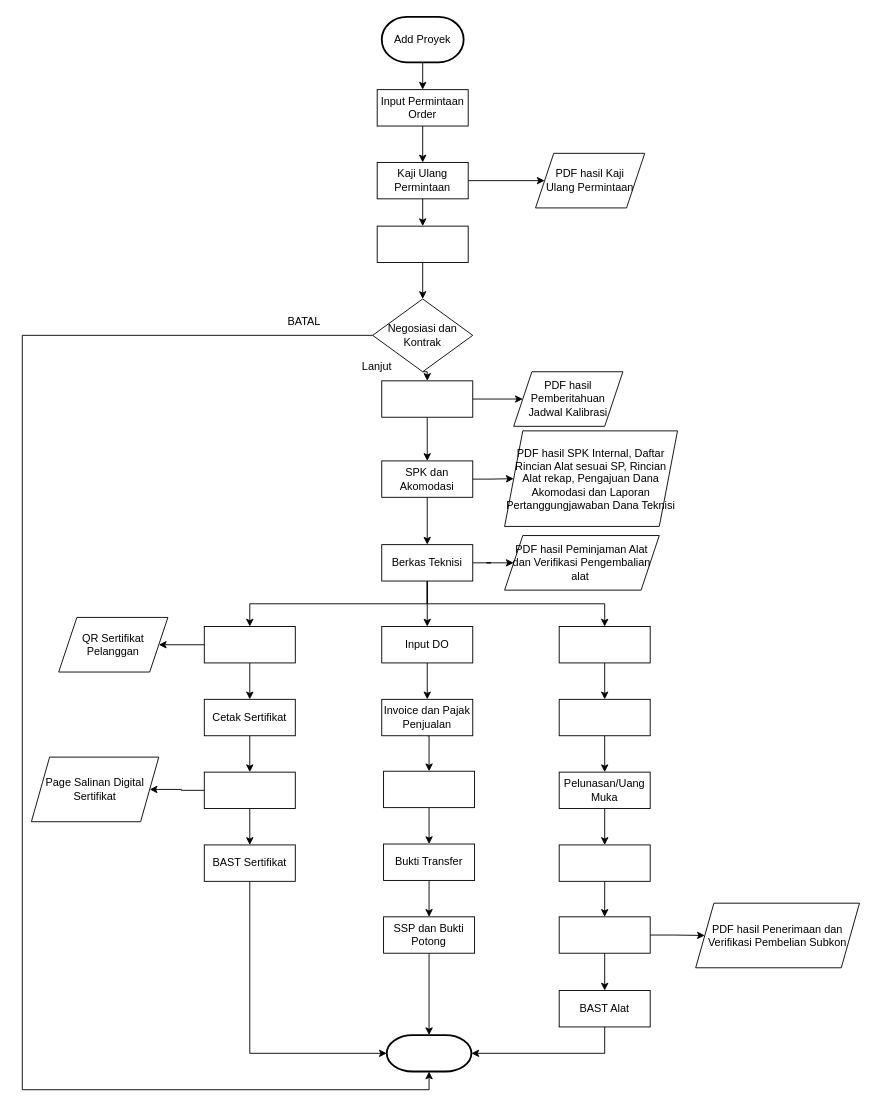
Some shapes in this 875 by 1113 pixel diagram are drawn without their labels. Each missing label, with the box of its shape:
Invoice dan Pajak Subkon: (558, 844, 650, 881)
Kirim Subkontrak: (558, 698, 650, 736)
Penawaran Harga: (376, 225, 468, 263)
Penyeliaan LK: (203, 626, 295, 663)
Penyusunan Jadwal: (381, 380, 473, 417)
PO Subkontrak: (558, 626, 650, 663)
Salinan Sertifikat: (203, 771, 295, 809)
SELESAI: (385, 1034, 472, 1072)
SPJ: (383, 770, 475, 808)
Verifikasi Pembelian Subkon: (558, 916, 650, 953)
